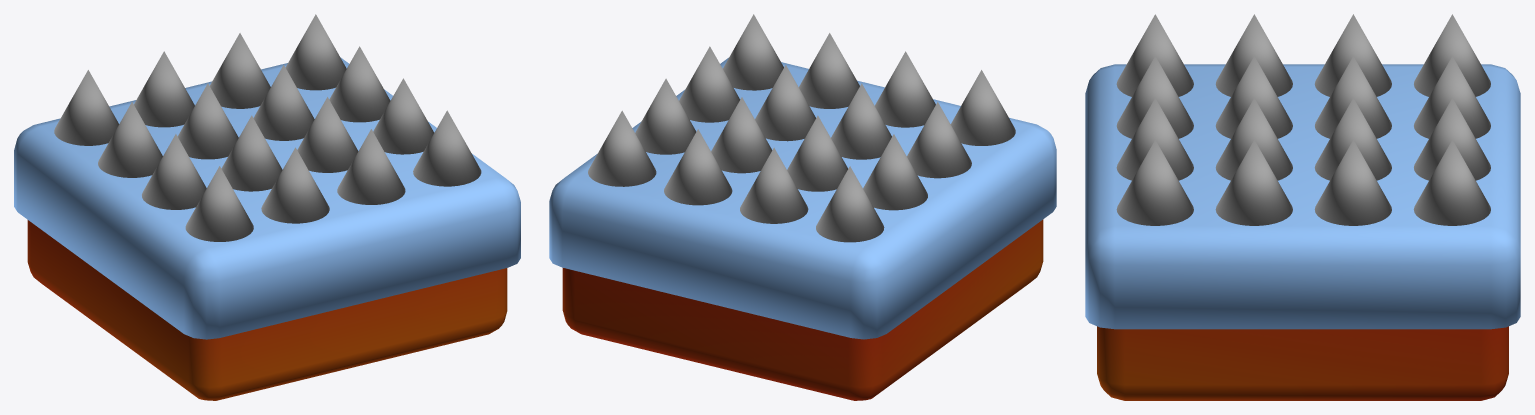
The model's file is trap_platformspikeblue.glb.
The picture shows the model from 3 angles, left to right: view 1: azimuth 30°, elevation 25°; view 2: azimuth 150°, elevation 25°; view 3: azimuth 270°, elevation 25°; orthographic projection. The views are drawn at different scales.
Visible parts, largest first — view 1: Cube.021_visual; view 2: Cube.021_visual; view 3: Cube.021_visual.
Boxes of the visible parts, box(x1,y1,x2,y2) form: Cube.021_visual: box(14, 14, 520, 400); Cube.021_visual: box(549, 14, 1056, 400); Cube.021_visual: box(1085, 14, 1520, 400).
Size of what is drawn, in the model's own units: 1.42 by 0.8857 by 1.42.
Materials: 1 (1 with a texture image).
